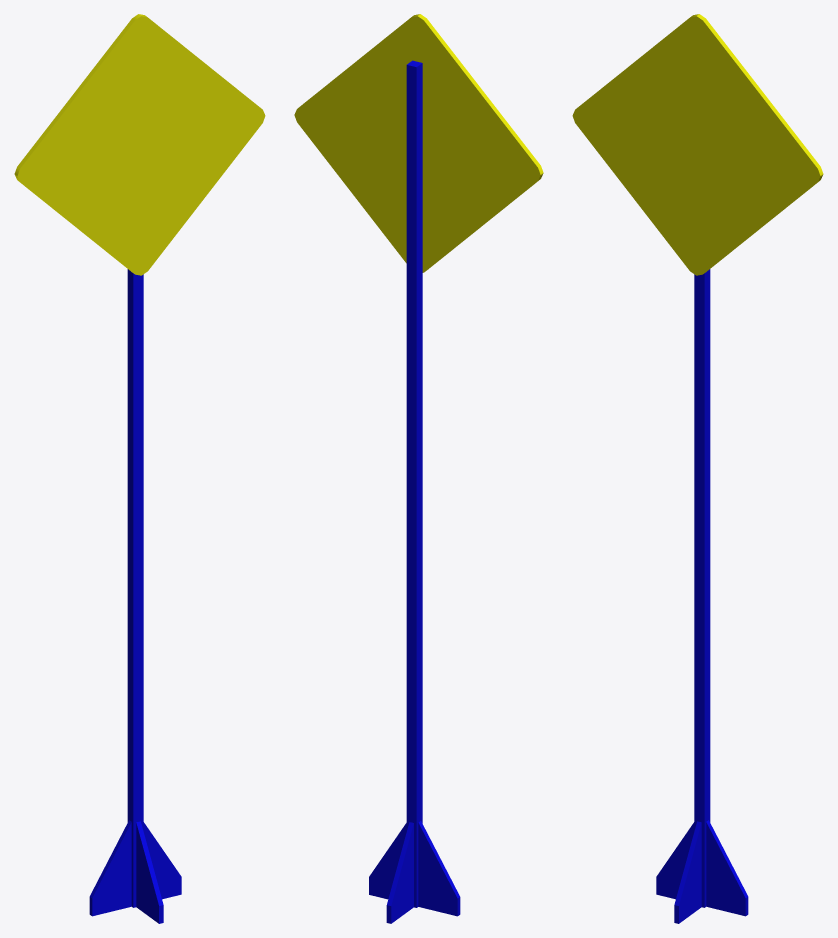
File: Warning.fbx
3 views of the same model, side by side, from view 1: azimuth 30°, elevation 25°; view 2: azimuth 150°, elevation 25°; view 3: azimuth 330°, elevation 25° (orthographic).
Parts seen in each view (by area): view 1: polySurface13; view 2: polySurface13; view 3: polySurface13.
Part boxes in pixels (x1,y1,x2,y2): polySurface13: [14, 14, 265, 923]; polySurface13: [294, 14, 543, 923]; polySurface13: [572, 14, 823, 923].
Bounding box in the file's own units: 97.47 × 335 × 35.12.
